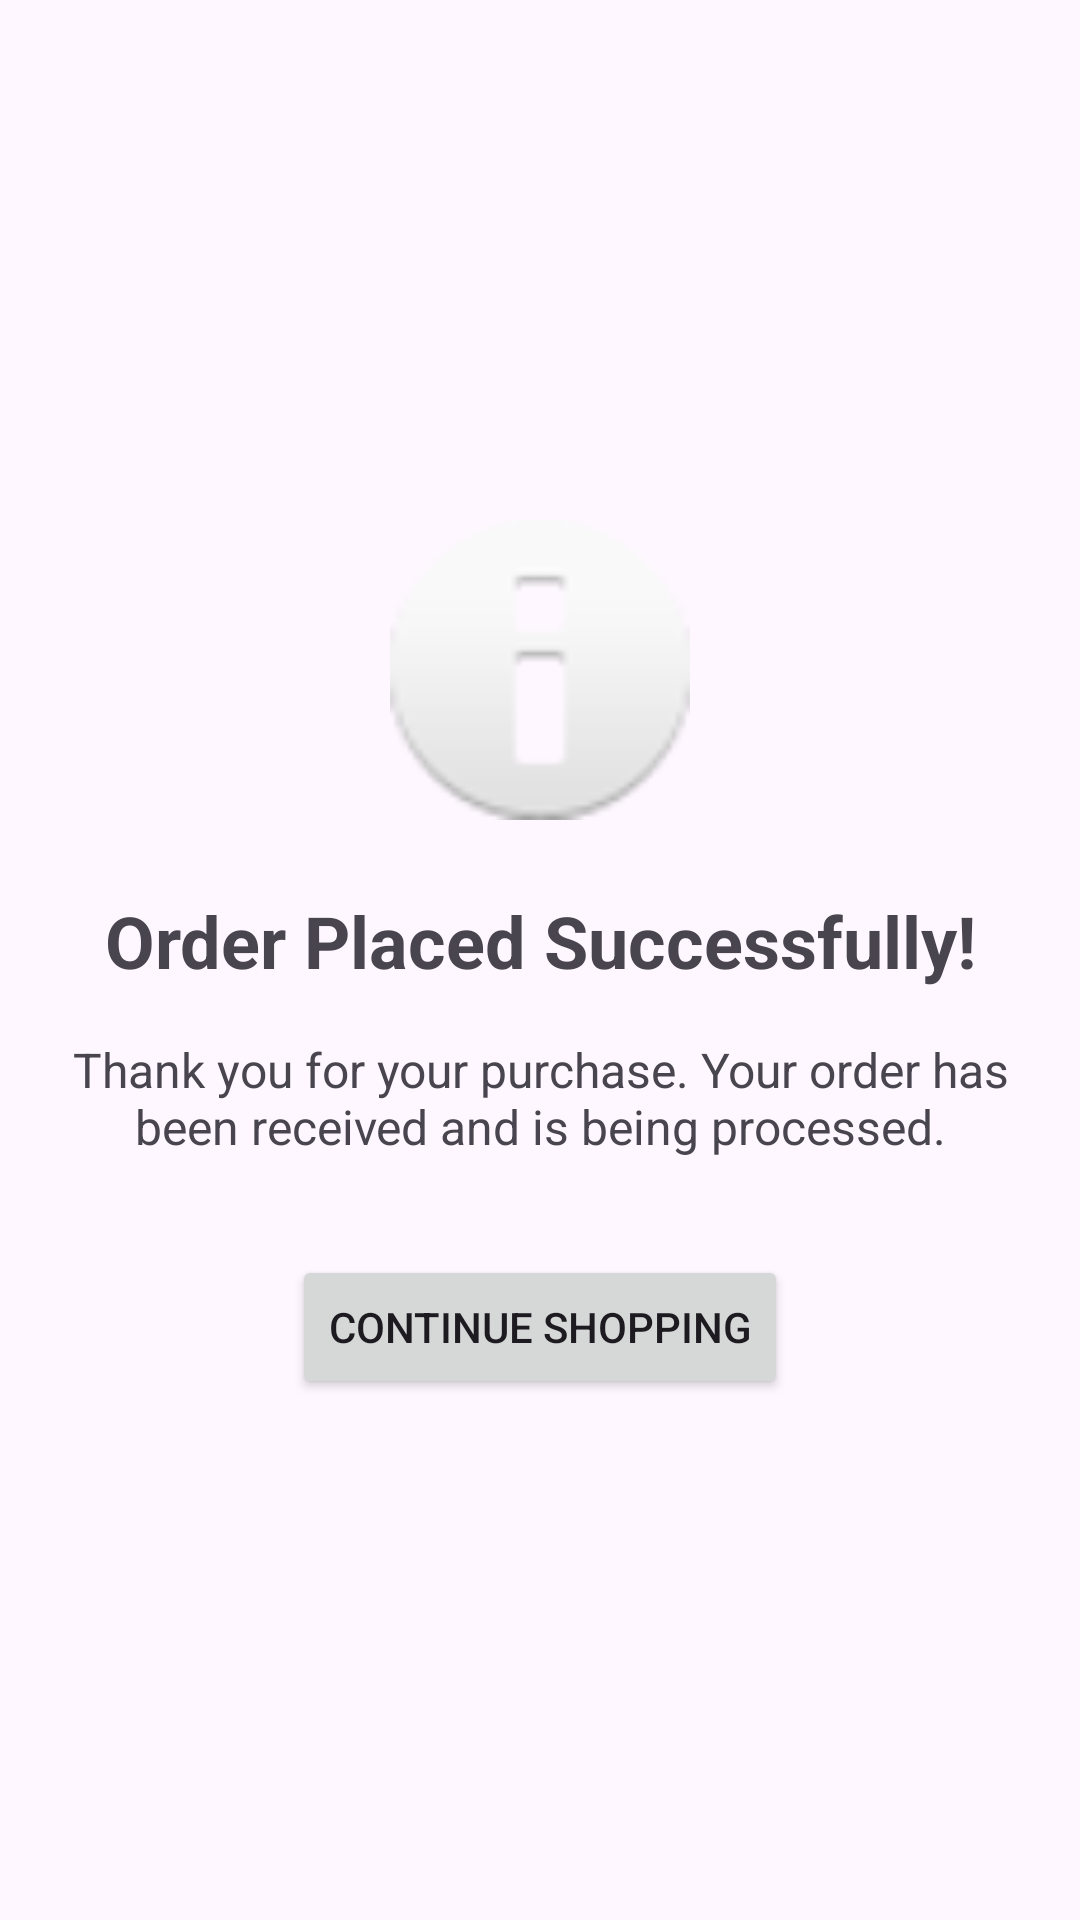

Where to tap for icons on this 1080*1920 app screen, as (x,y):
info: (540,697)
